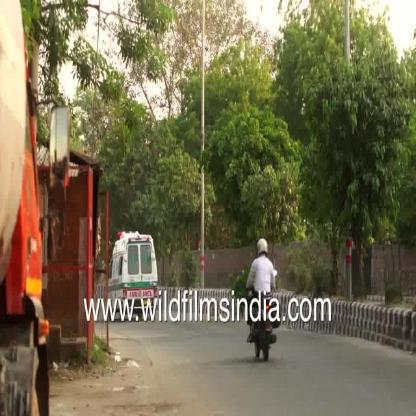priority: (108, 229, 162, 291)
